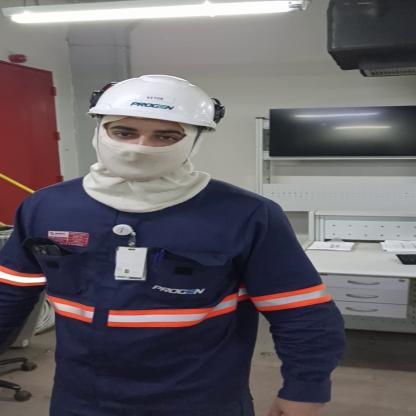Balaclava: (75, 116, 217, 212)
Capacete: (81, 72, 234, 134)
